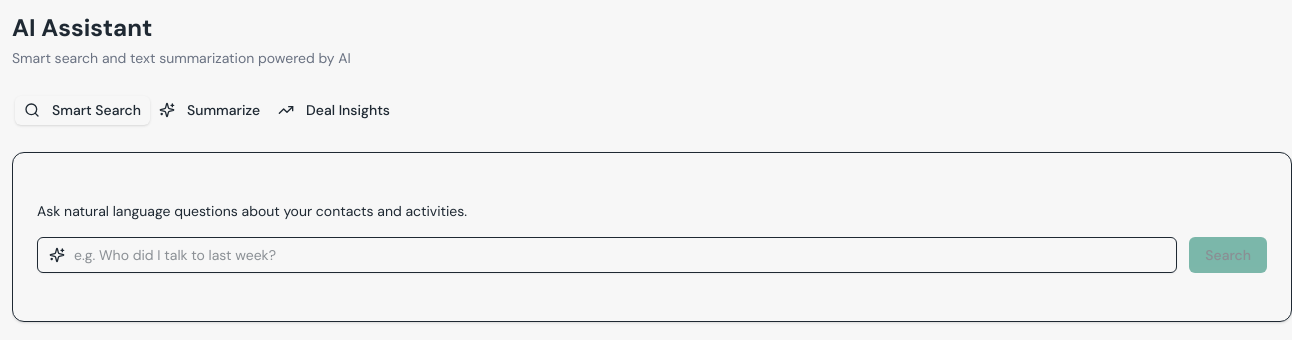
Test case: AiPanelPage › renders the Deal Insights tab
Click the tab "Deal Insights".
click(334, 110)  # box [269,96,399,124]
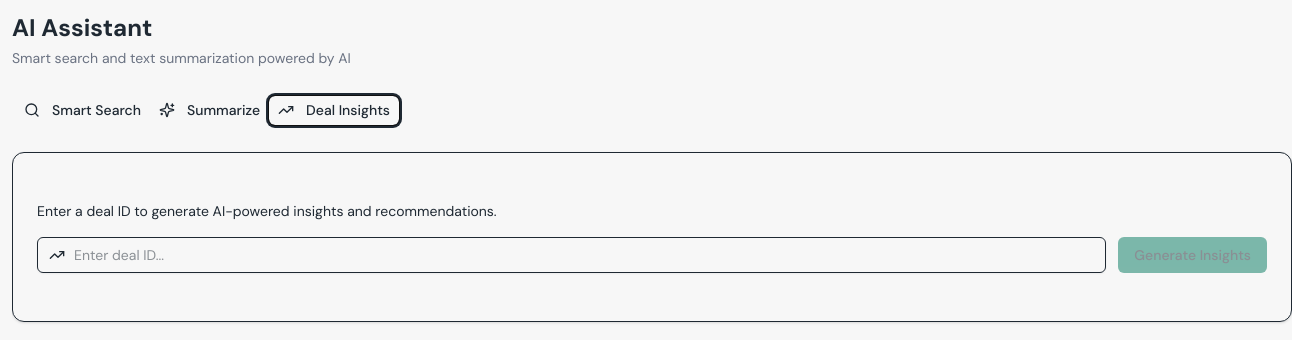
Expected: the number field with placeholder "Enter deal ID..." is shown, [37,237,1106,273]
Expected: the button "Generate Insights" is shown, [1118,237,1267,273]
